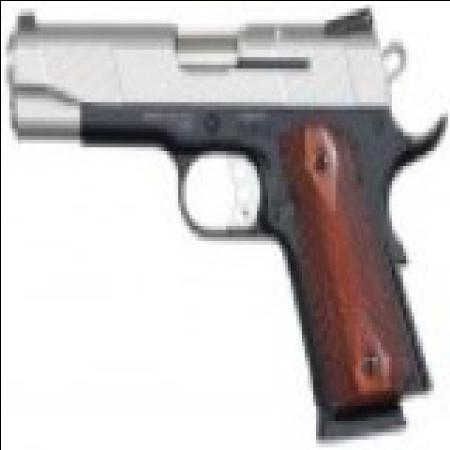Pistol: (8, 4, 438, 416)
